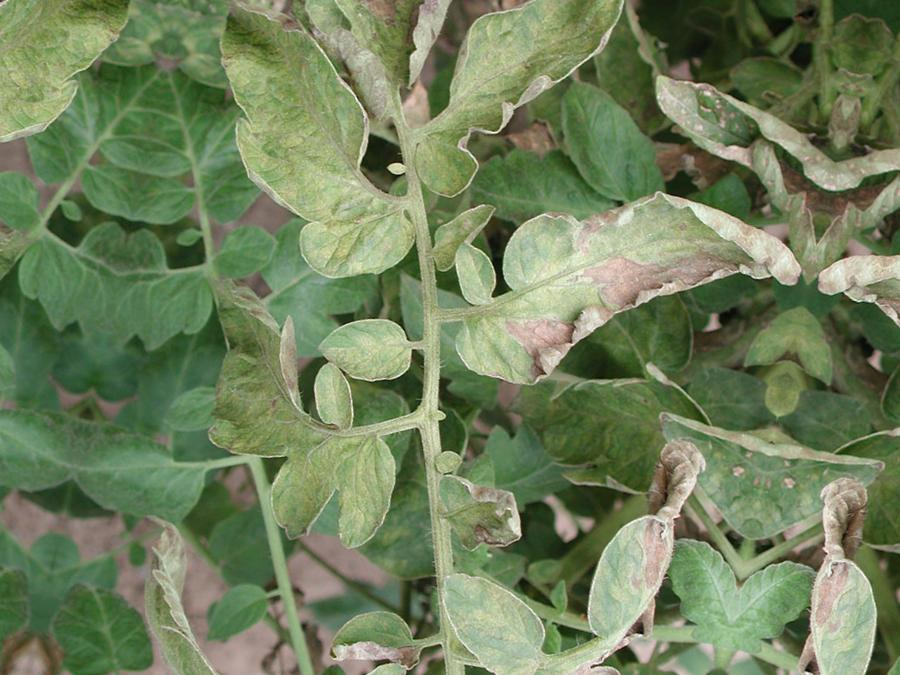Tomato mold leaf: (445, 149, 817, 446), (167, 0, 466, 299), (404, 0, 656, 233), (520, 423, 722, 675), (414, 556, 561, 675), (309, 303, 425, 405), (421, 464, 536, 562), (297, 354, 369, 450), (307, 646, 412, 675)
